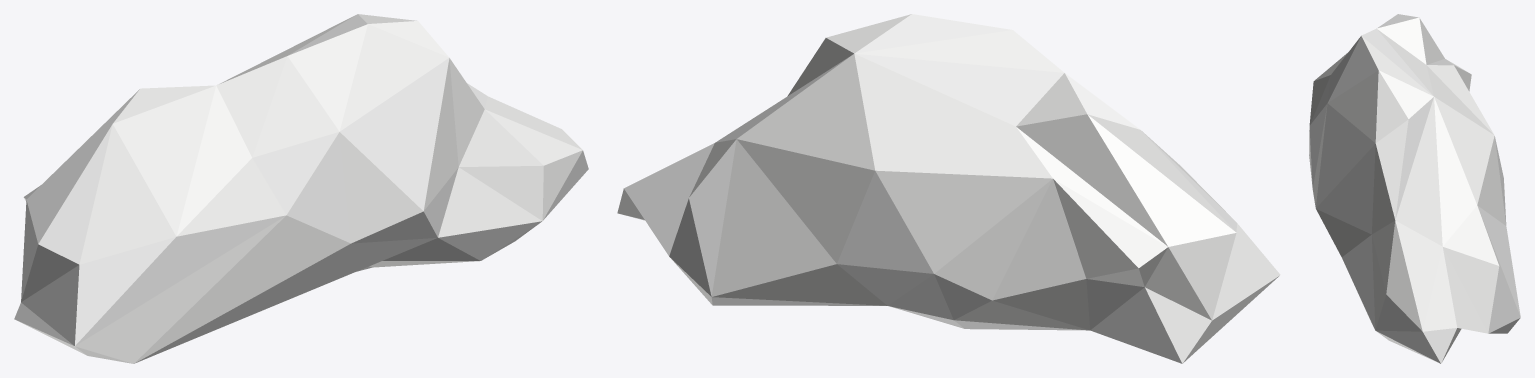
File: Cloud_v19.fbx
The picture shows the model from 3 angles, left to right: view 1: azimuth 30°, elevation 25°; view 2: azimuth 150°, elevation 25°; view 3: azimuth 270°, elevation 25°; orthographic projection. The views are drawn at different scales.
Visible parts, largest first — view 1: Cloud_v19; view 2: Cloud_v19; view 3: Cloud_v19.
Part boxes in pixels (x1,y1,x2,y2): Cloud_v19: (14, 14, 588, 363); Cloud_v19: (617, 14, 1280, 363); Cloud_v19: (1309, 14, 1520, 363).
Size of the model in its own units: 42.26 by 18.16 by 16.17.
1 material, 1 textured.
